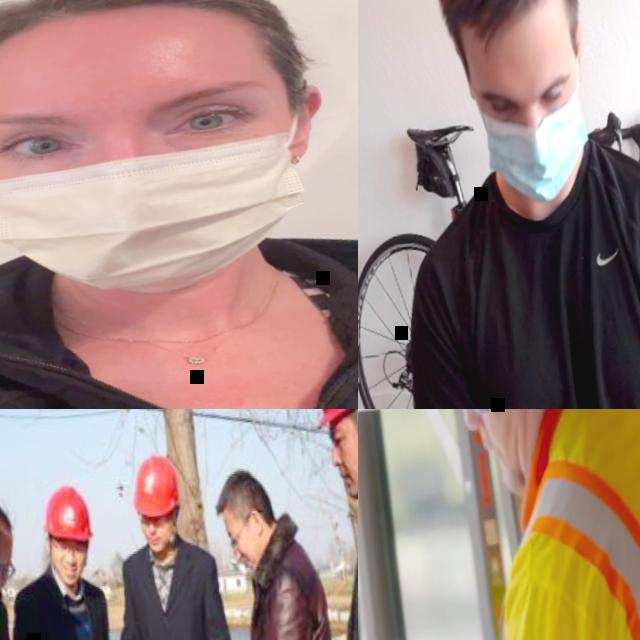Hardhat: (37, 483, 95, 547), (127, 453, 182, 520)
Mask: (0, 108, 315, 312), (474, 78, 596, 207)
NO-Hardhat: (0, 0, 294, 94), (210, 468, 265, 512), (0, 491, 13, 545)
NO-Mask: (481, 409, 550, 497), (335, 436, 358, 502), (236, 530, 265, 574), (52, 558, 83, 590), (145, 529, 173, 556)
NO-Safety Vest: (0, 237, 358, 409), (433, 152, 640, 409), (126, 549, 221, 640), (247, 555, 343, 640), (24, 578, 114, 640)
Person: (0, 0, 358, 409), (358, 0, 640, 409), (384, 409, 640, 640), (96, 446, 265, 640), (182, 458, 358, 640), (0, 478, 148, 640)
Safety Vest: (464, 409, 640, 640)
